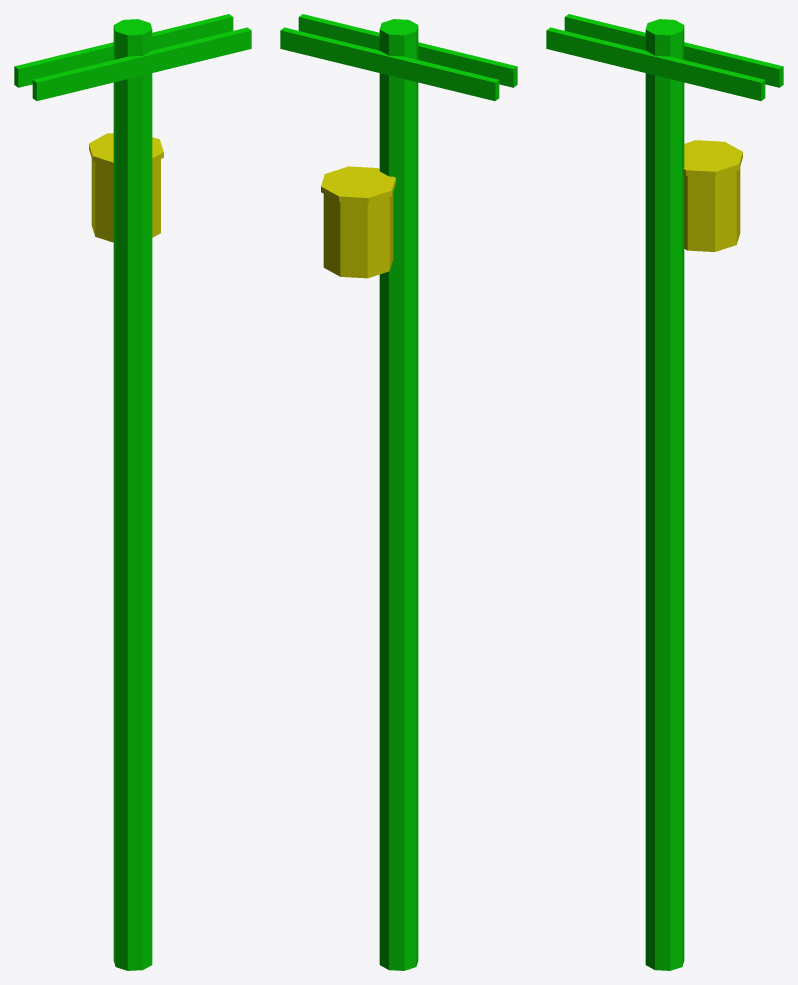
The model's file is Powerline.fbx.
The picture shows the model from 3 angles, left to right: view 1: azimuth 30°, elevation 25°; view 2: azimuth 150°, elevation 25°; view 3: azimuth 330°, elevation 25°; orthographic projection.
Visible parts, largest first — view 1: pCylinder8; view 2: pCylinder8; view 3: pCylinder8.
Boxes of the visible parts, x1=… form: pCylinder8: x1=14, y1=14, x2=251, y2=970; pCylinder8: x1=280, y1=14, x2=517, y2=970; pCylinder8: x1=546, y1=14, x2=783, y2=970.
Size of the model in its own units: 159 by 663 by 69.59.
